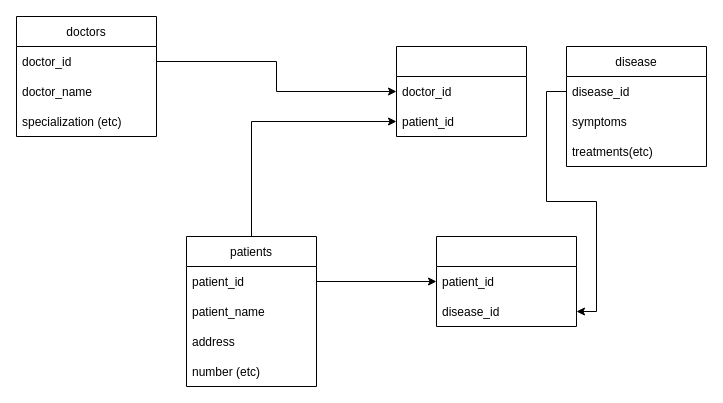
This 723x403 diagram has some shape labels left out. The box of each missing label's shape, as (x1, y1, x2, y2) in pixels:
doctors_patients: (396, 46, 526, 136)
patients_disease: (436, 236, 576, 326)
